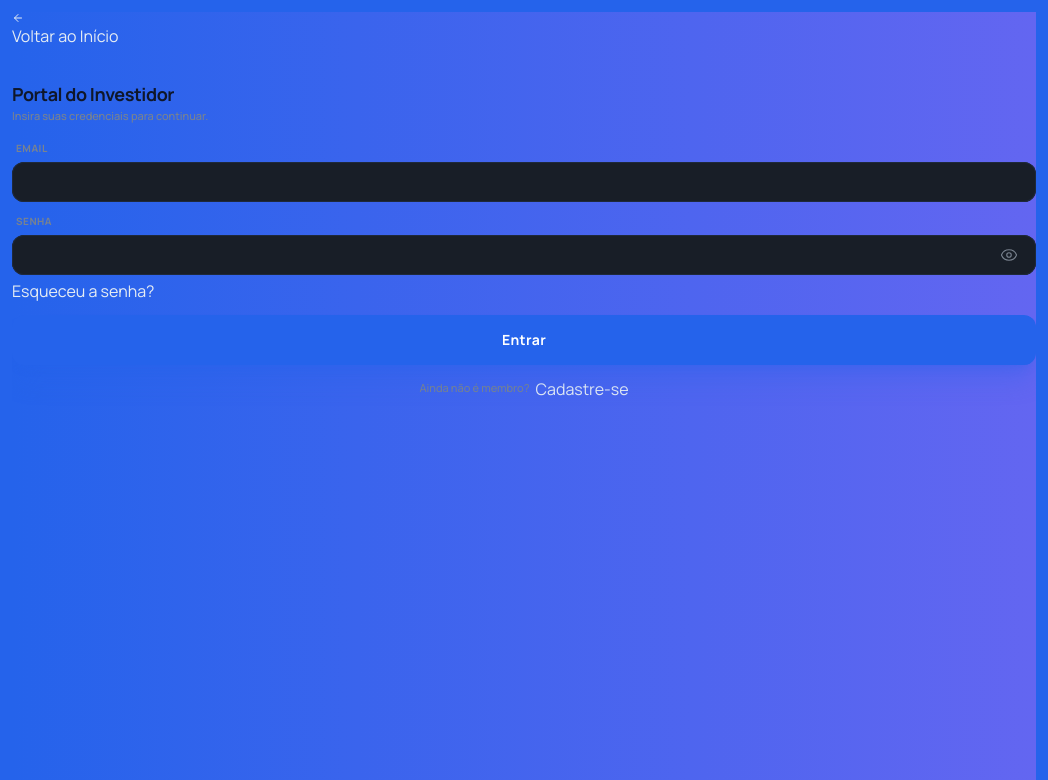
Test: fluxo 2FA (MFA) › botão "Voltar para e-mail" restaura o formulário de credenciais
Type "user@email.com" into the field labelled "Email" at (524, 182), box [12,162,1036,202]
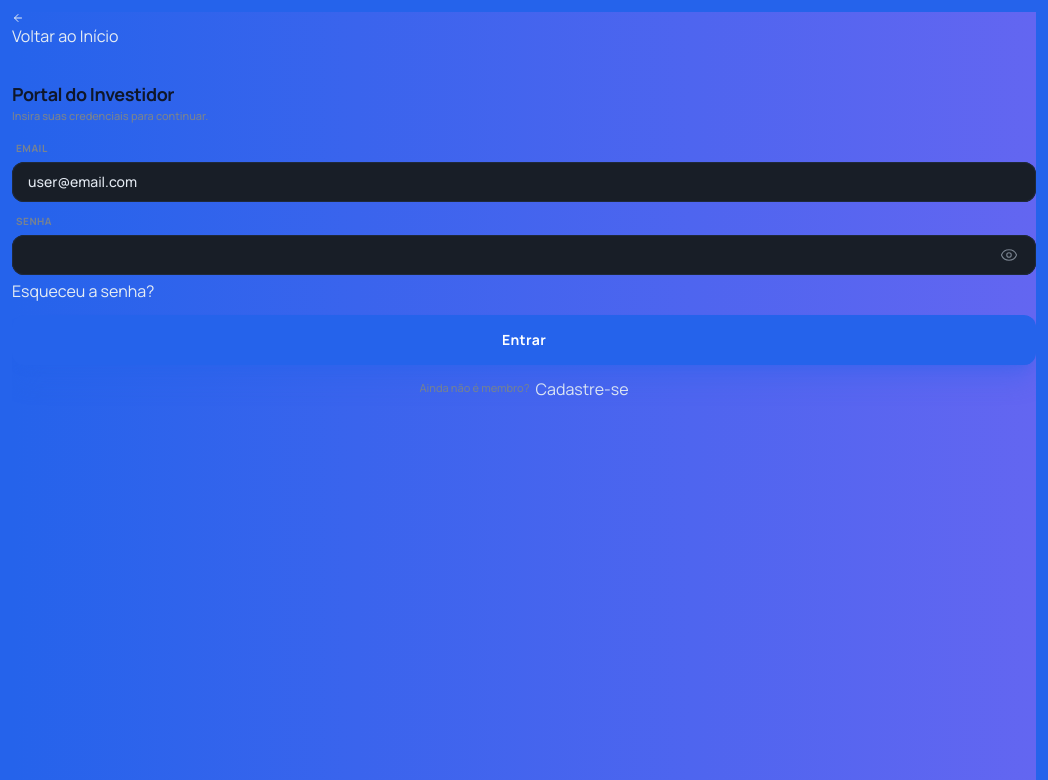
Type "Senha123!" into the password field labelled "Senha" at (524, 254), box [12,234,1036,274]
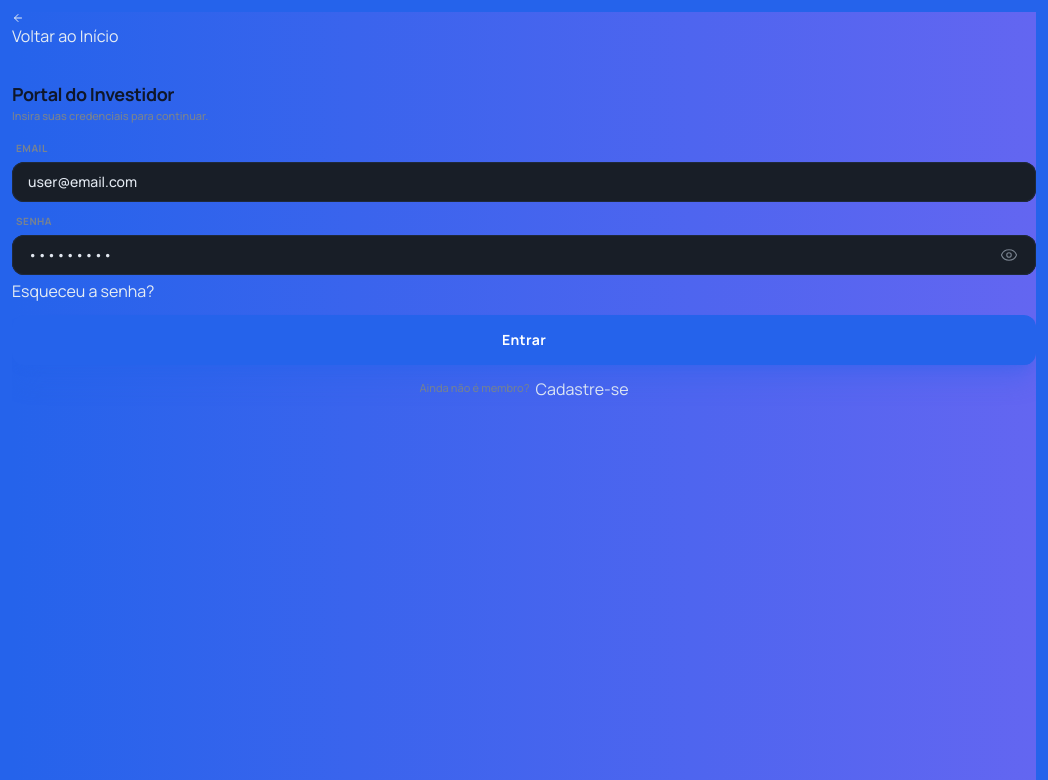
Submit the form, box [12,140,1036,364]
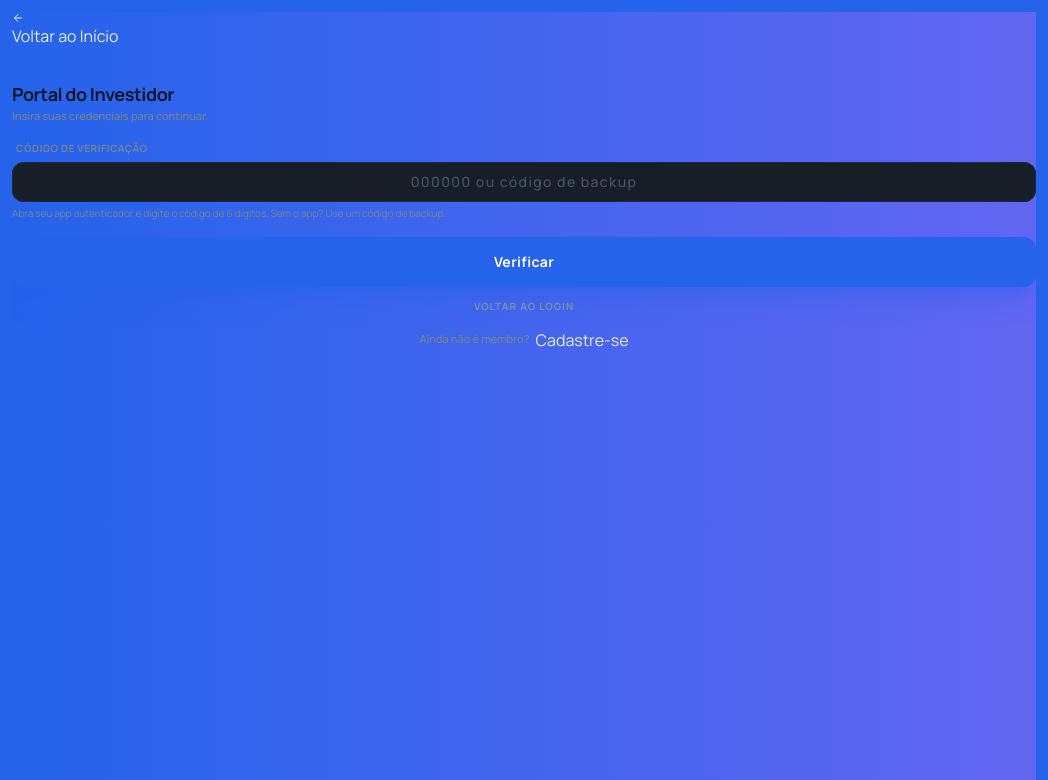
expect the field labelled "Código de verificação" is shown: met, box [12,162,1036,202]
Click the button "Voltar ao login" at (524, 306), box [12,298,1036,314]
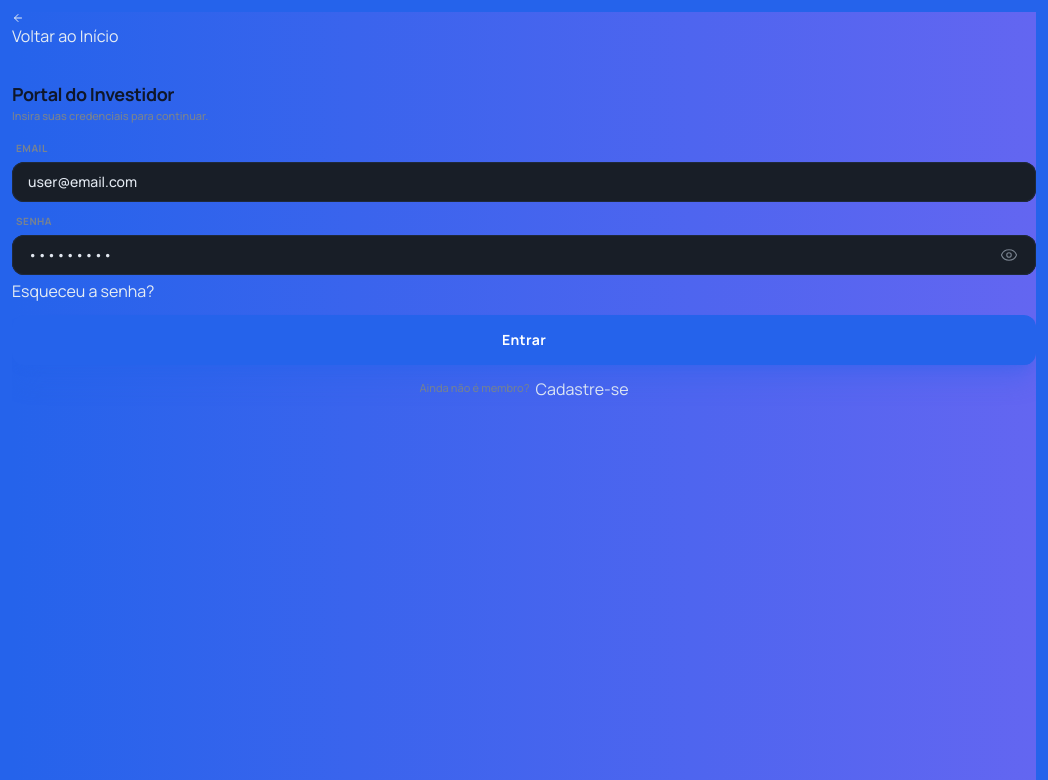
expect the password field labelled "Senha" is shown: met, box [12,234,1036,274]
